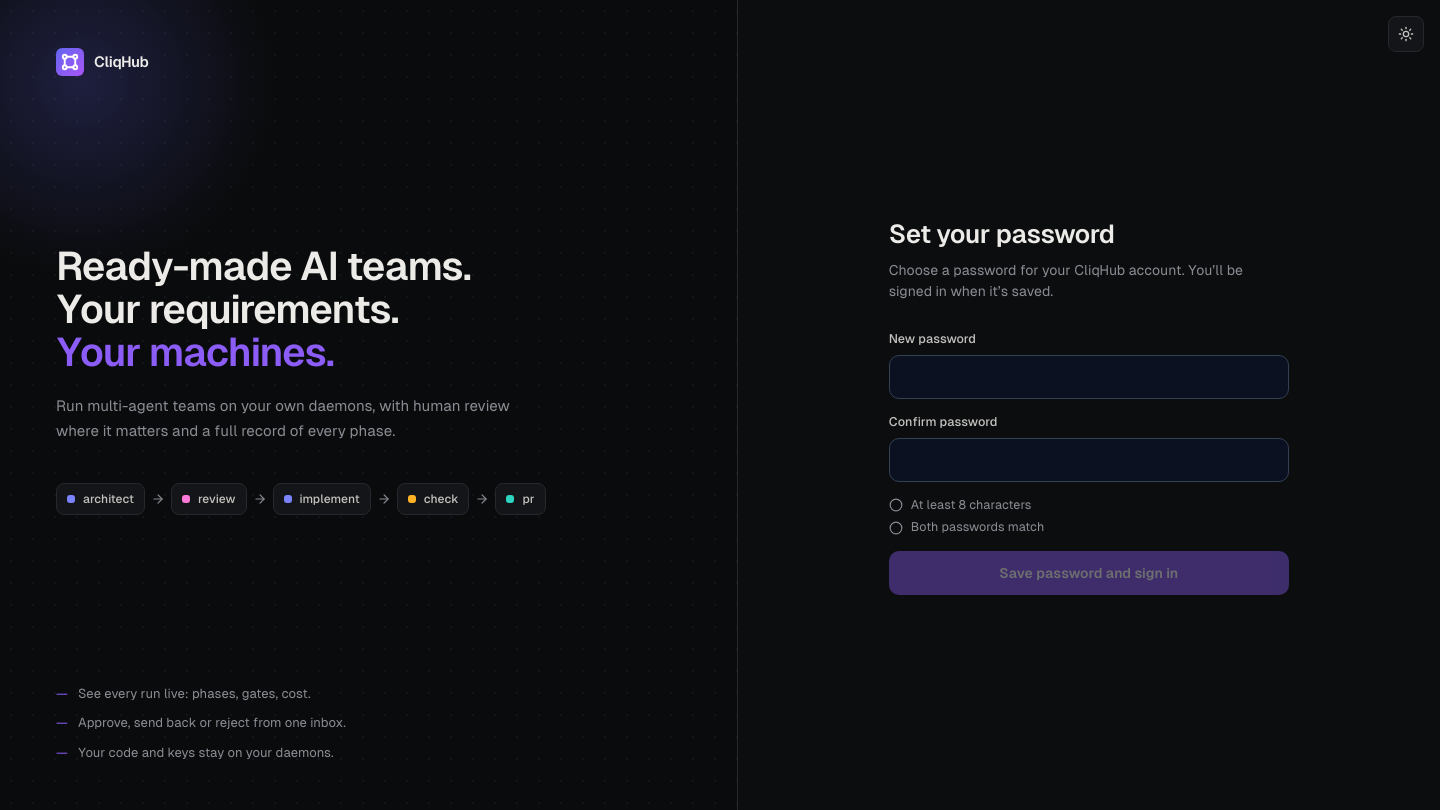
it: Set your password (/reset/:token) › 409 not_pending → “This link was already used” with a way to get a new link
In the password field labelled "New password": (1089, 377) [889,355,1289,399], type "longpassword"
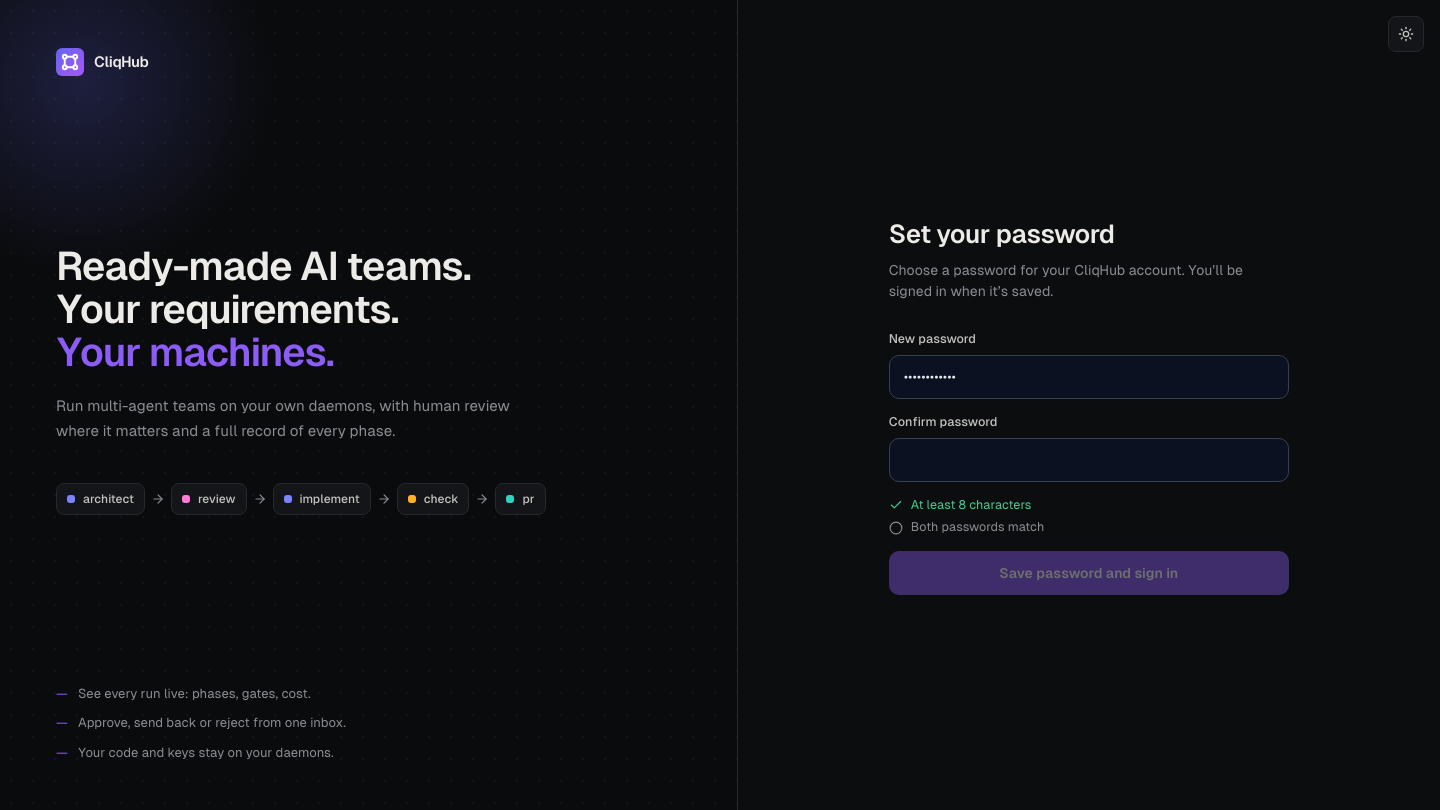
In the password field labelled "Confirm password": (1089, 460) [889,438,1289,482], type "longpassword"
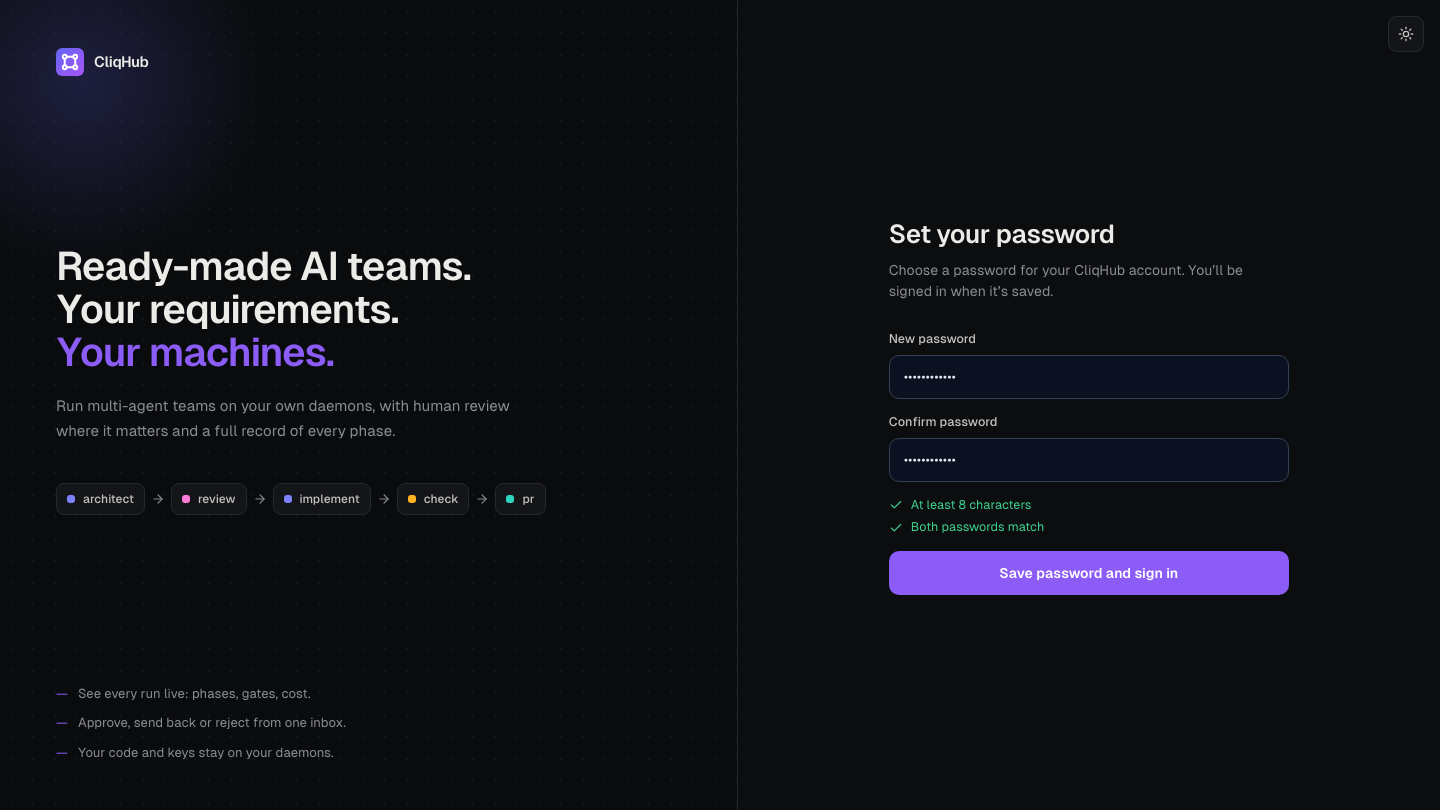
Click the button "Save password and sign in": (1089, 573) [889,551,1289,595]
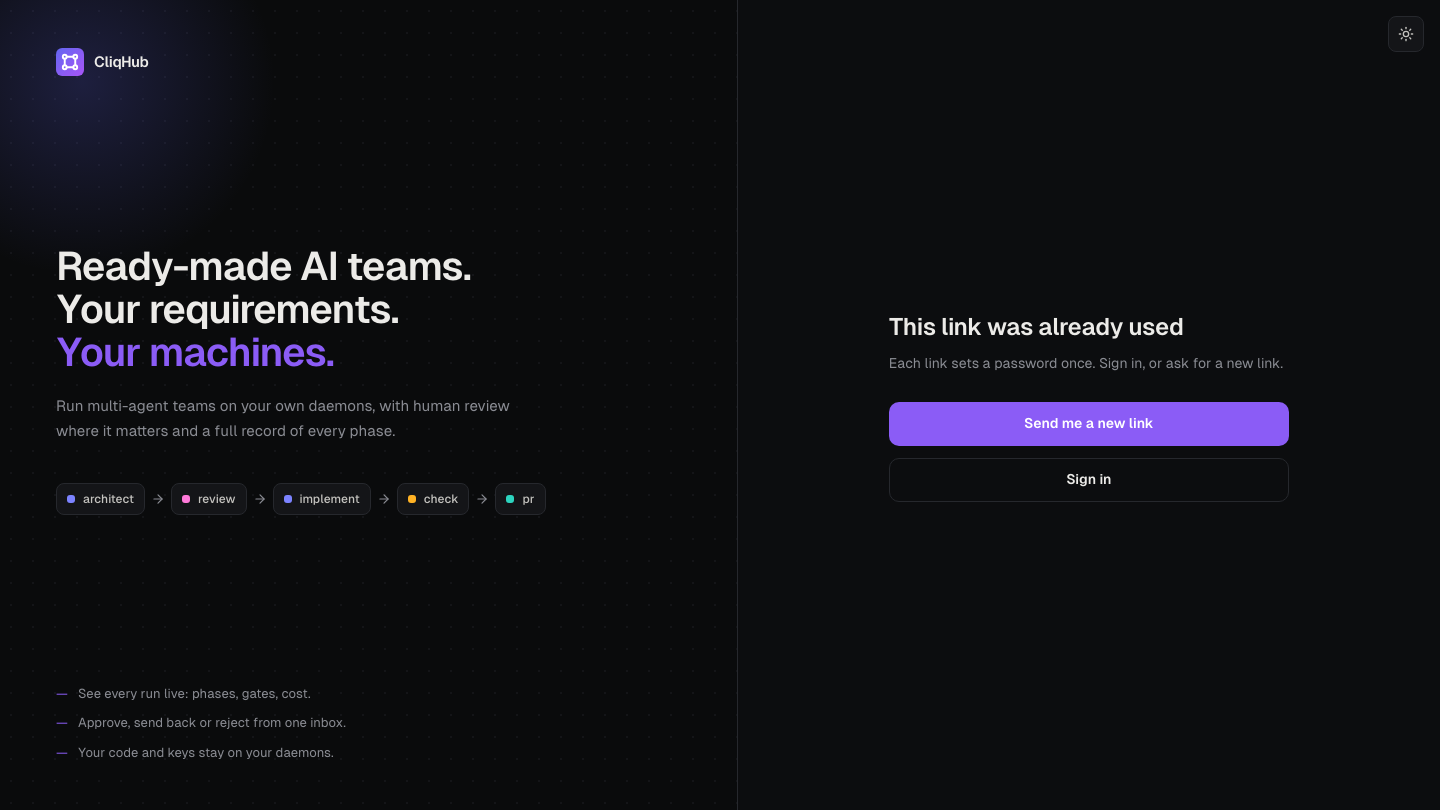
Now the heading "This link was already used" is shown, box [889,312,1184,340]
